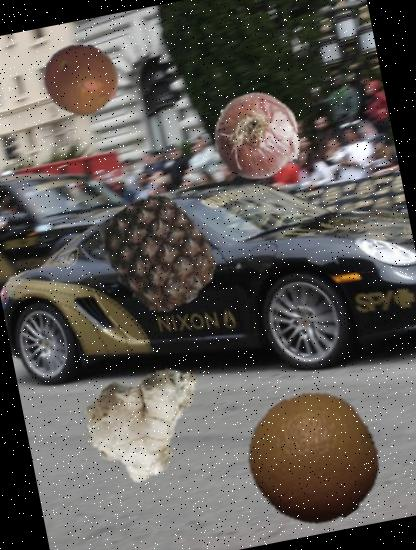Ginger: (74, 343, 224, 493)
Onion: (204, 83, 310, 189)
Orange: (236, 381, 392, 536)
Pineapple: (91, 186, 226, 321)
Tangelo: (36, 34, 126, 123)
